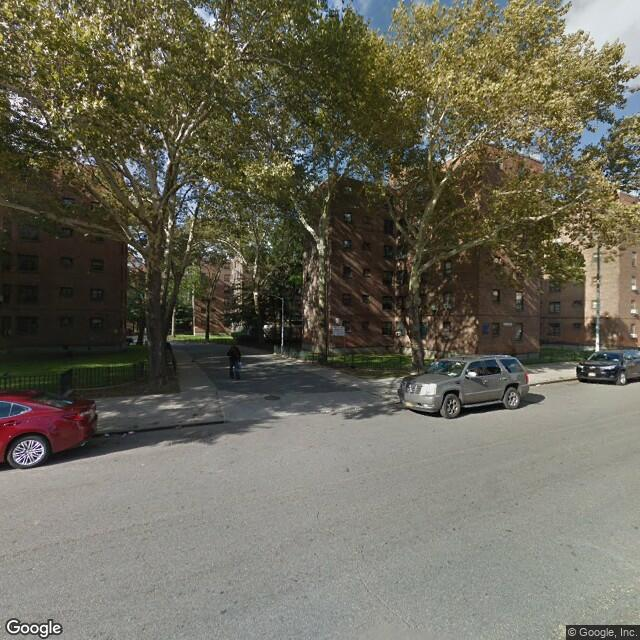litter: (120, 429, 141, 436), (101, 428, 111, 439), (537, 381, 548, 389)
